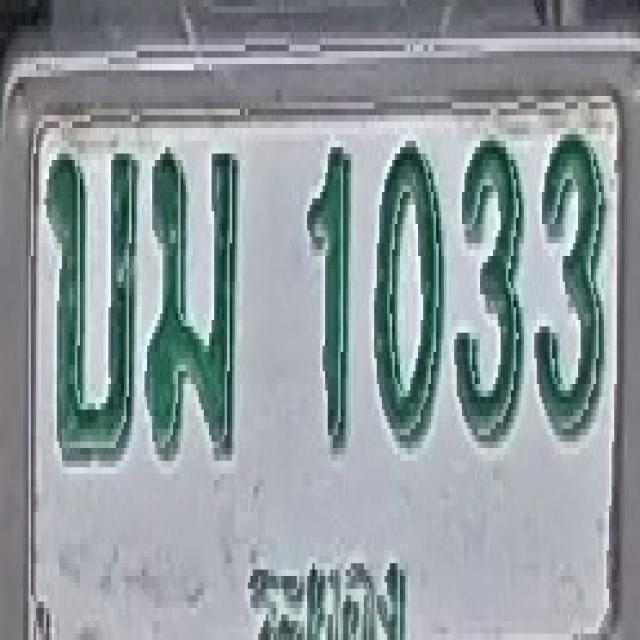-: (45, 147, 138, 461), (146, 144, 239, 458)
0: (374, 138, 444, 444)
1: (306, 144, 350, 451)
3: (454, 134, 524, 442), (536, 128, 605, 435)
RYG: (238, 539, 415, 640)
